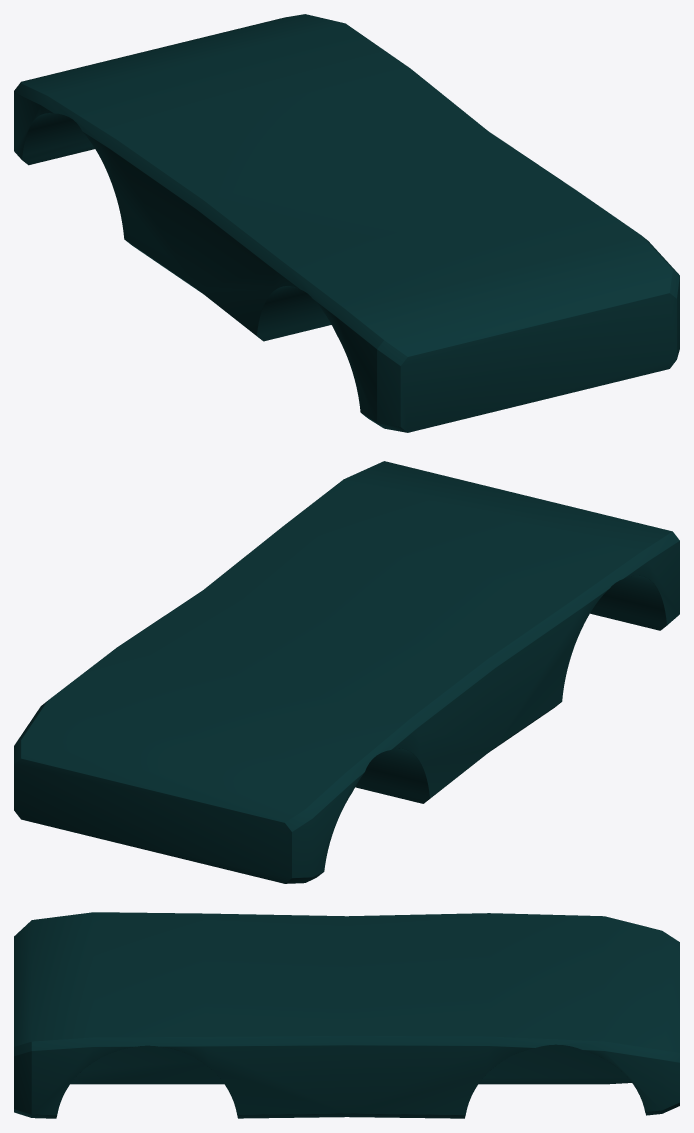
The model's file is Cedar_Coupe_BodyShell_R2.obj.
The picture shows the model from 3 angles, top to bottom: view 1: azimuth 30°, elevation 25°; view 2: azimuth 150°, elevation 25°; view 3: azimuth 270°, elevation 25°; orthographic projection. The views are drawn at different scales.
Visible parts, largest first — view 1: BodyShell; view 2: BodyShell; view 3: BodyShell.
Boxes of the visible parts, <box> form: BodyShell: <box>14,14,679,432</box>; BodyShell: <box>14,461,679,883</box>; BodyShell: <box>14,912,679,1118</box>.
Size of the model in its own units: 7 by 2.05 by 15.
